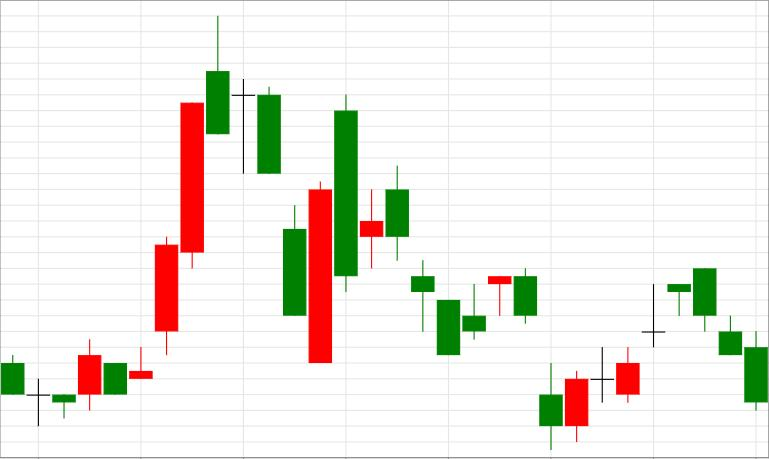bullish_engulfing_rise: (206, 16, 332, 363)
